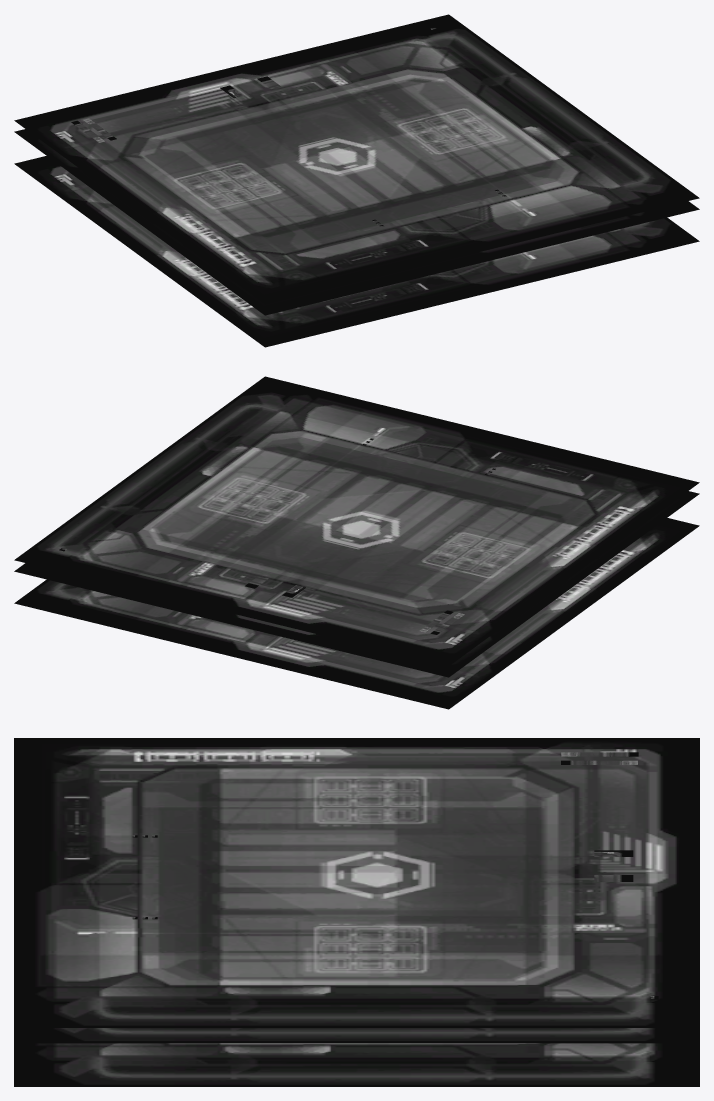
The model's file is Holomod_01.FBX.
3 renders of one model, top to bottom at view 1: azimuth 30°, elevation 25°; view 2: azimuth 150°, elevation 25°; view 3: azimuth 270°, elevation 25°, orthographic. The views are drawn at different scales.
Parts seen in each view (by area): view 1: Holomod_01; view 2: Holomod_01; view 3: Holomod_01.
Part boxes in pixels (x1,y1,x2,y2): Holomod_01: (14, 14, 699, 347); Holomod_01: (14, 376, 699, 709); Holomod_01: (14, 738, 699, 1086).
Size of the model in its own units: 1 by 0.1093 by 1.
